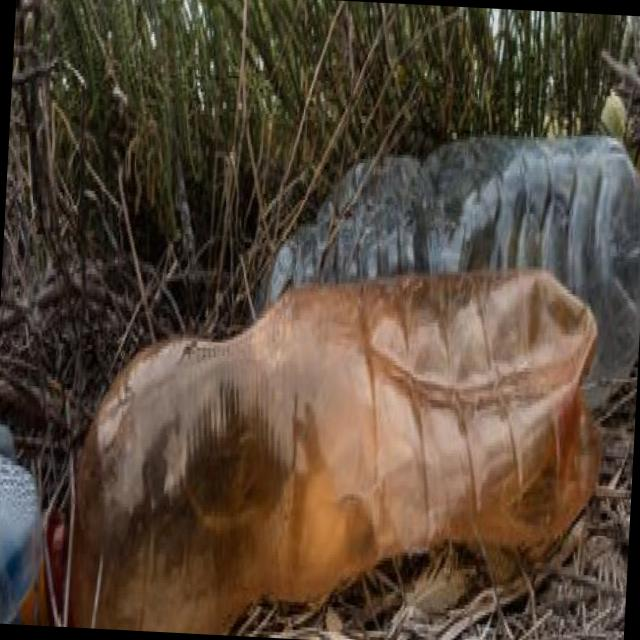general: (55, 239, 612, 640), (259, 111, 640, 416)
